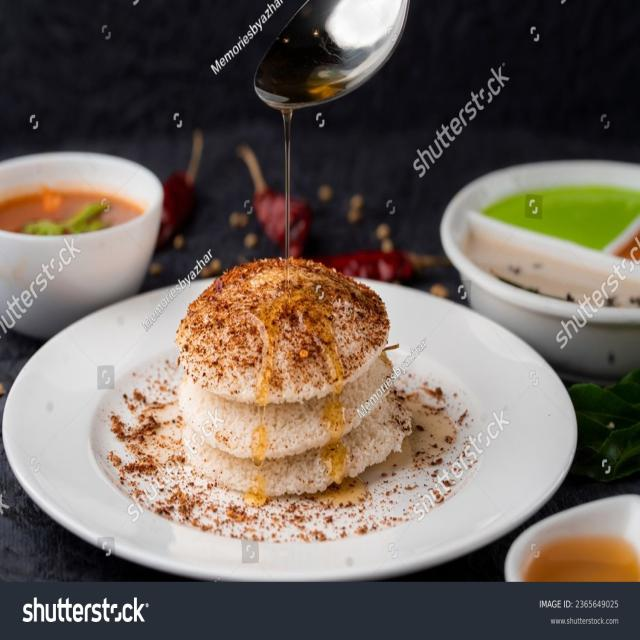IDLI: (174, 251, 408, 505)
